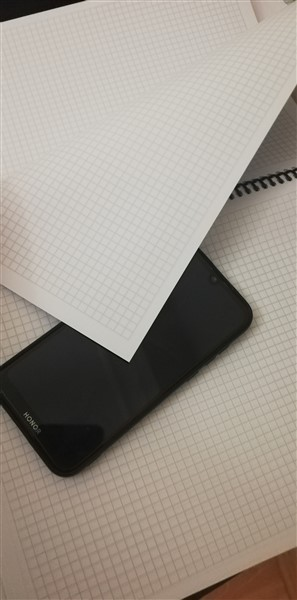telefon: (1, 231, 258, 486)
